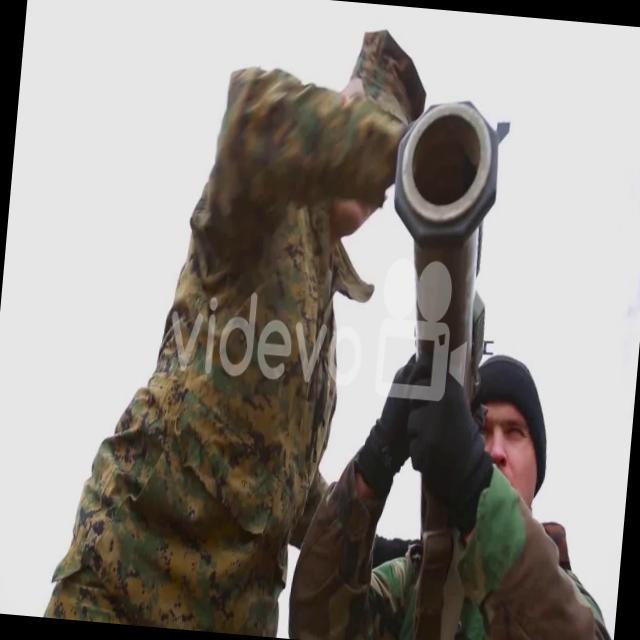rocket: (377, 94, 506, 394)
